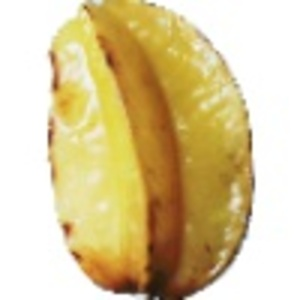carambola: (46, 1, 256, 300)
